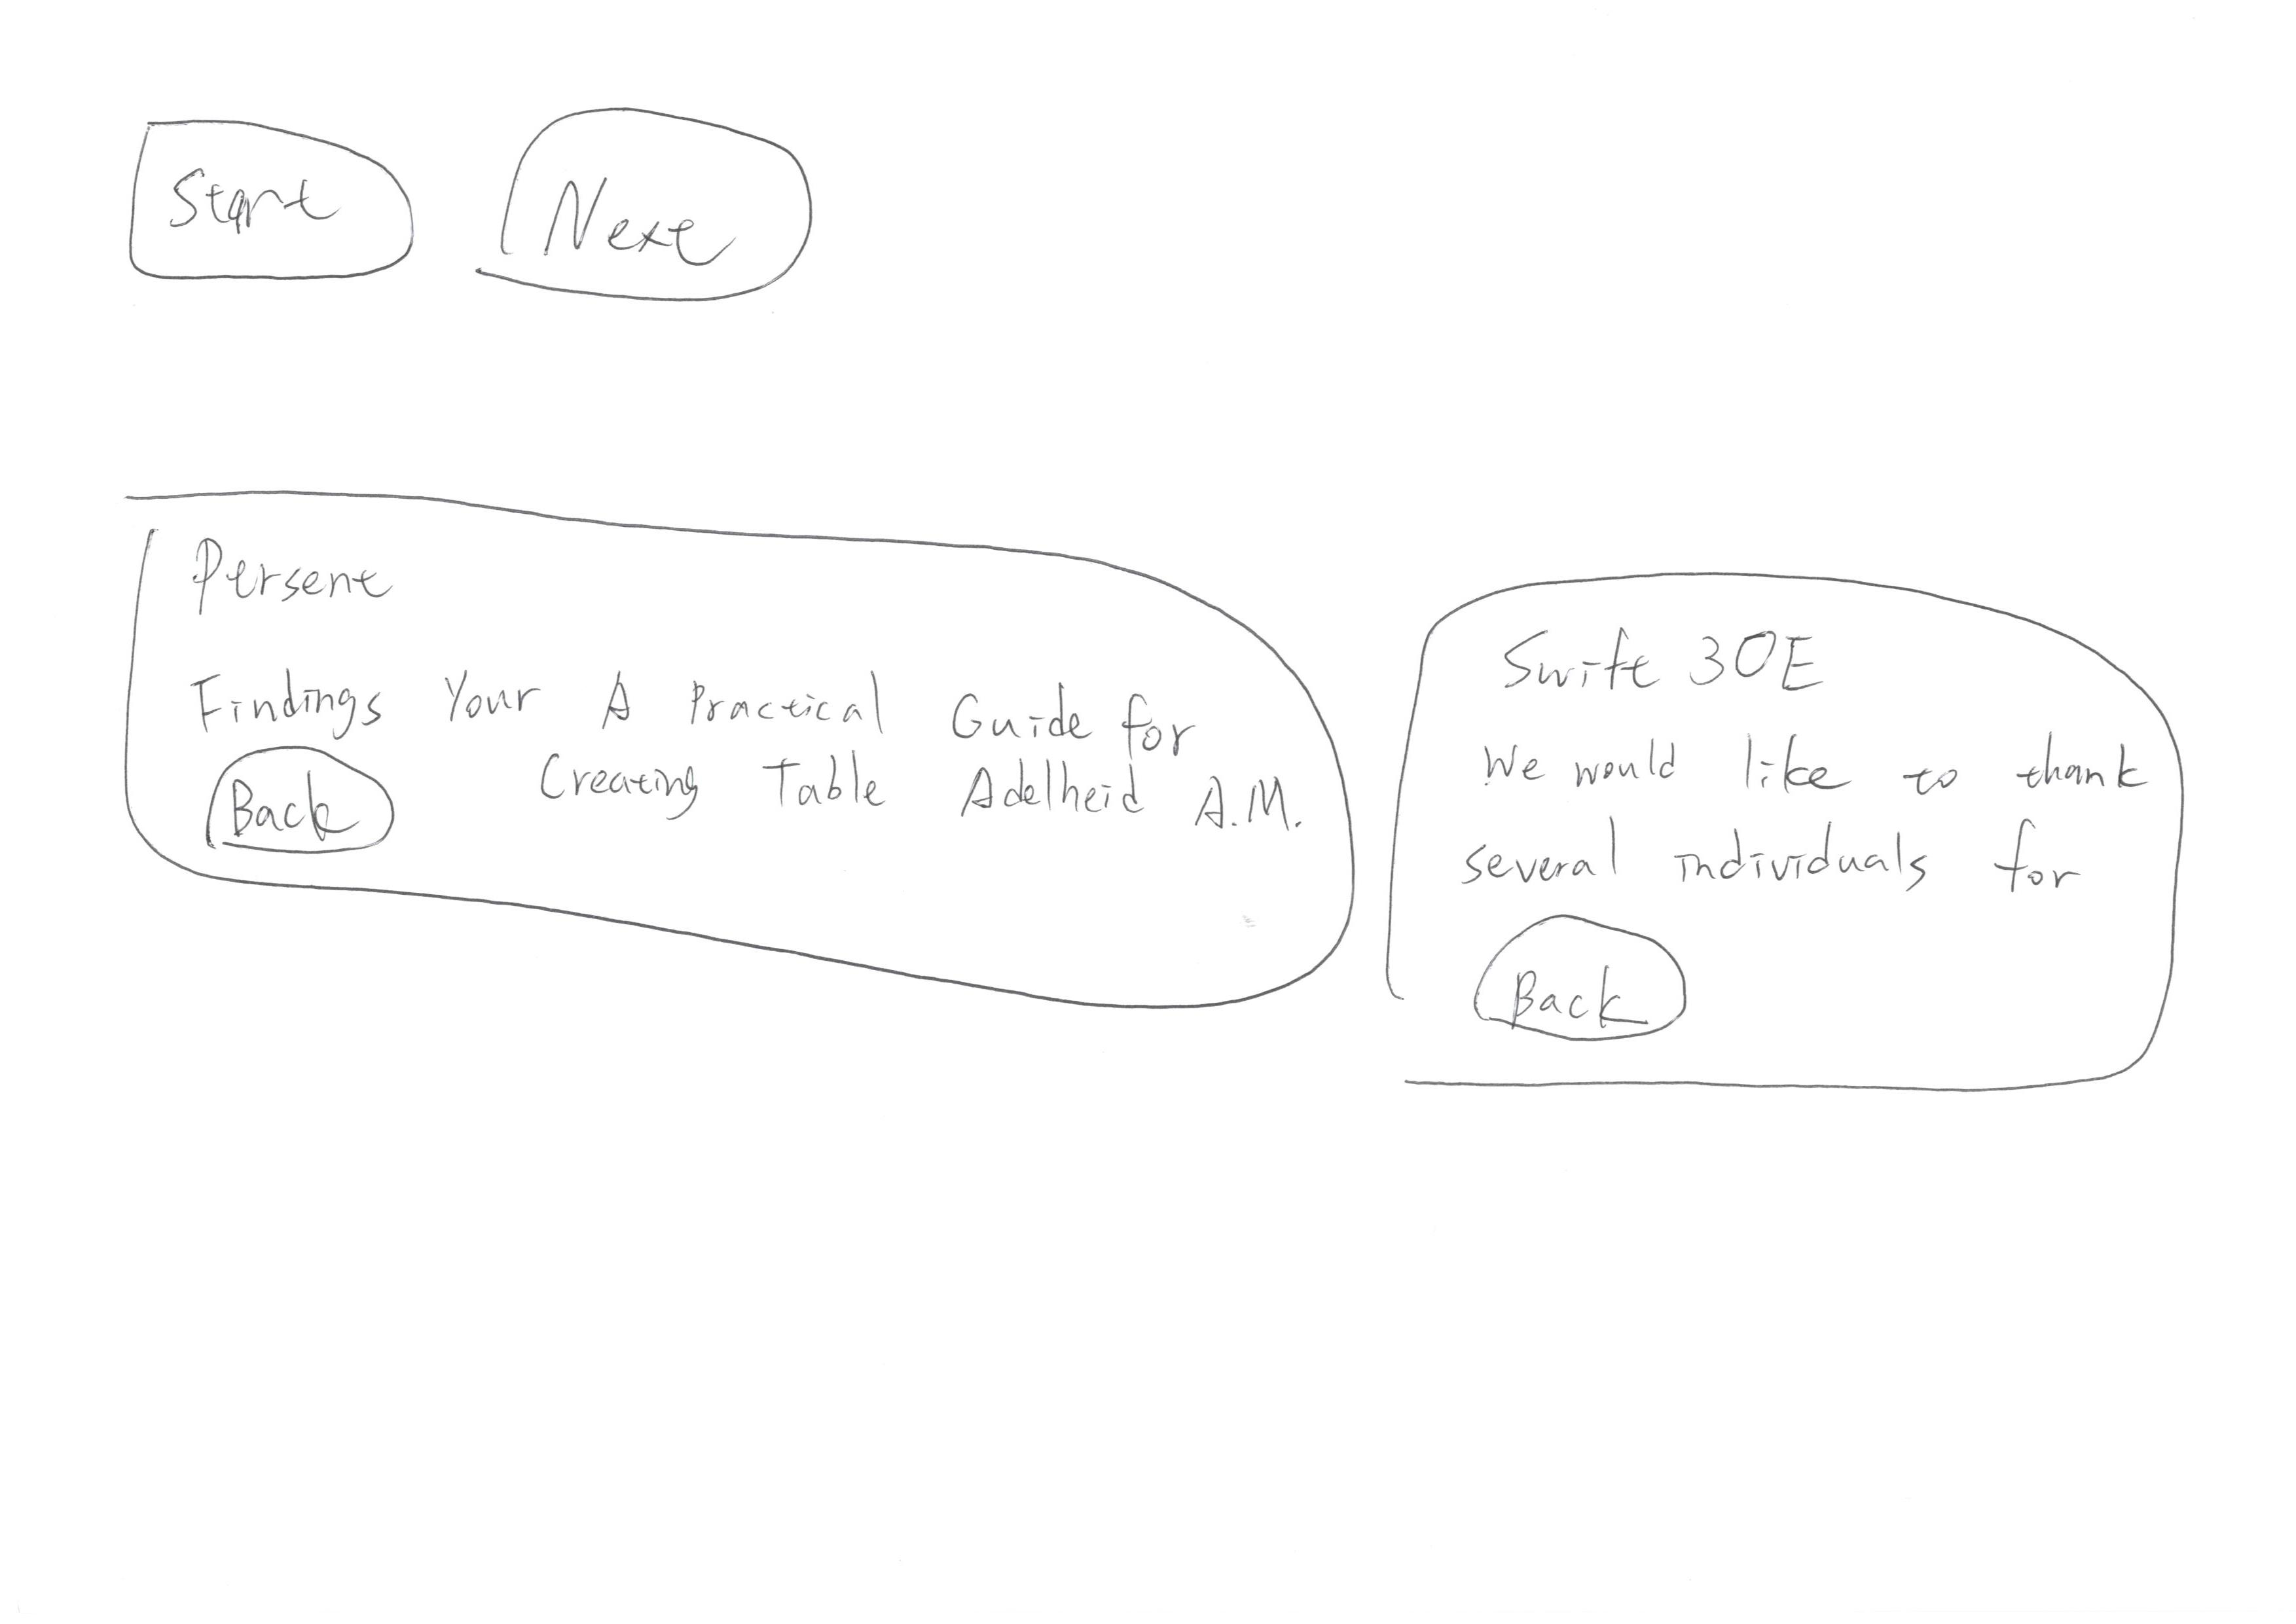back: (1463, 909, 1718, 1063), (200, 735, 457, 888)
double: (93, 443, 1364, 1104), (1359, 564, 2243, 1128)
next: (441, 72, 858, 329)
row: (44, 390, 2296, 1146), (37, 60, 2296, 415)
small-title: (1487, 610, 1846, 710), (181, 518, 394, 645)
start: (104, 105, 438, 308)
text: (524, 652, 1297, 858), (1459, 728, 2133, 895), (192, 650, 1195, 754)
